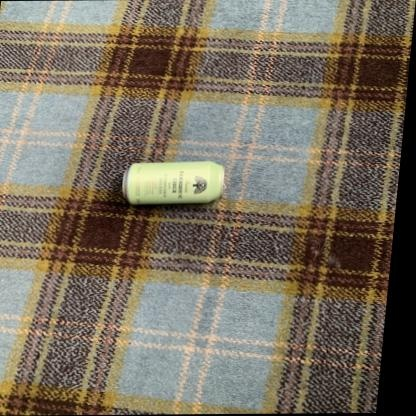trash: (122, 161, 223, 204)
